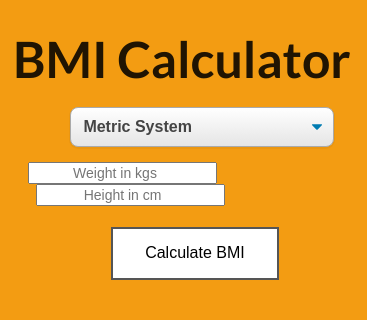
it: App component › Counts using the metric method
Select "Metric System" in the dropdown with id "method" at (202, 127), box [70,107,334,147]
Type "90" into the number field with id "weight" at (122, 173), box [28,162,217,184]
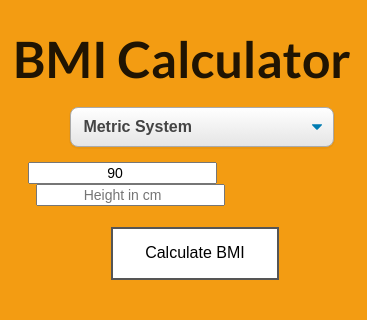
Type "190" into the number field with id "height" at (130, 195), box [36,184,224,206]
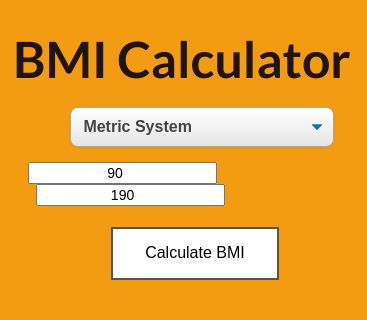
Submit the form, box [28,107,334,280]
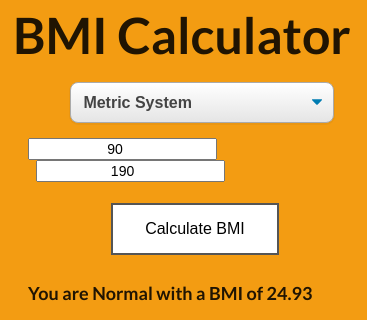
Expected: the heading with id "bmi-message" reads "You are Normal with a BMI of 24.93", [28,282,312,304]
